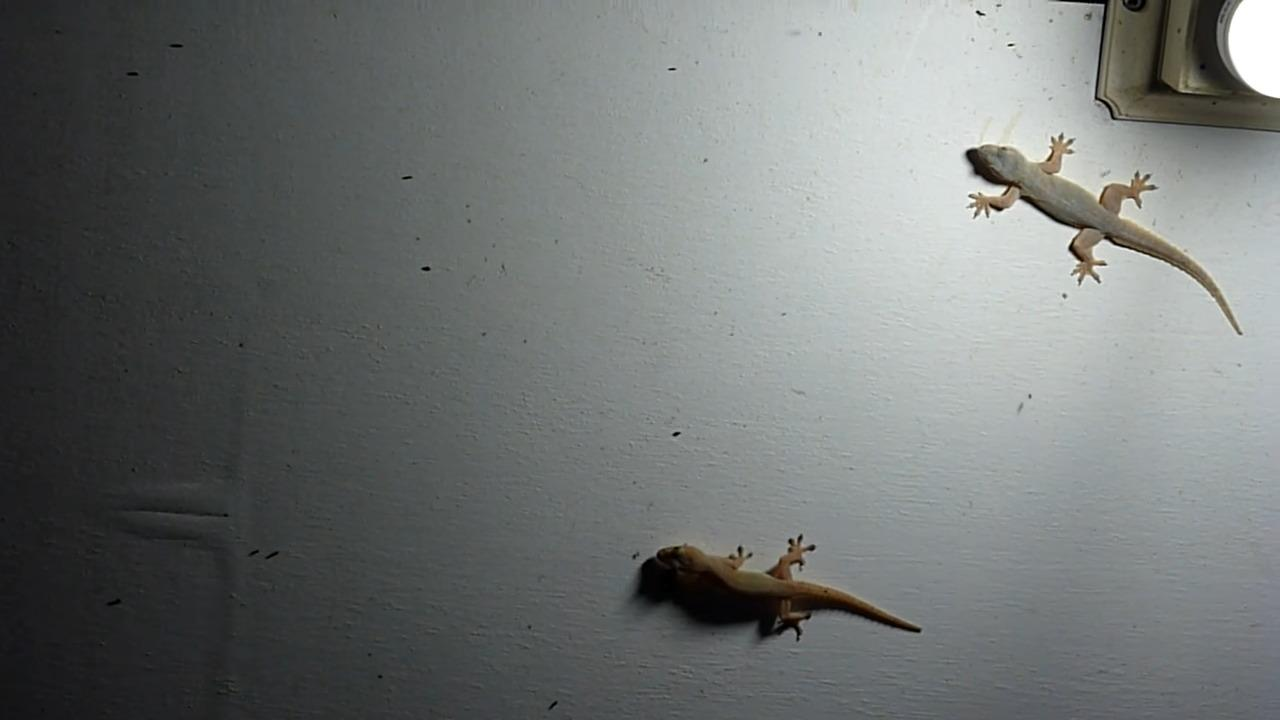lizard: (945, 132, 1251, 349), (621, 526, 950, 663)
